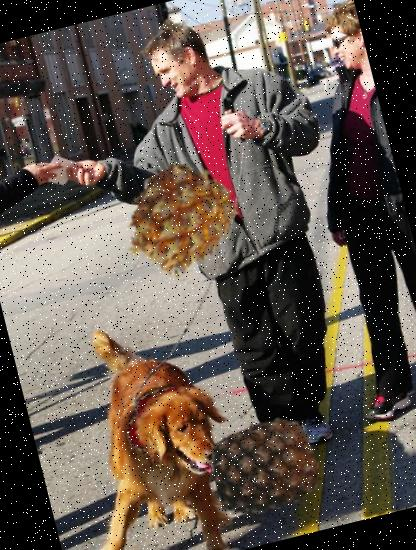Pineapple: (112, 151, 250, 289), (202, 402, 330, 530)
